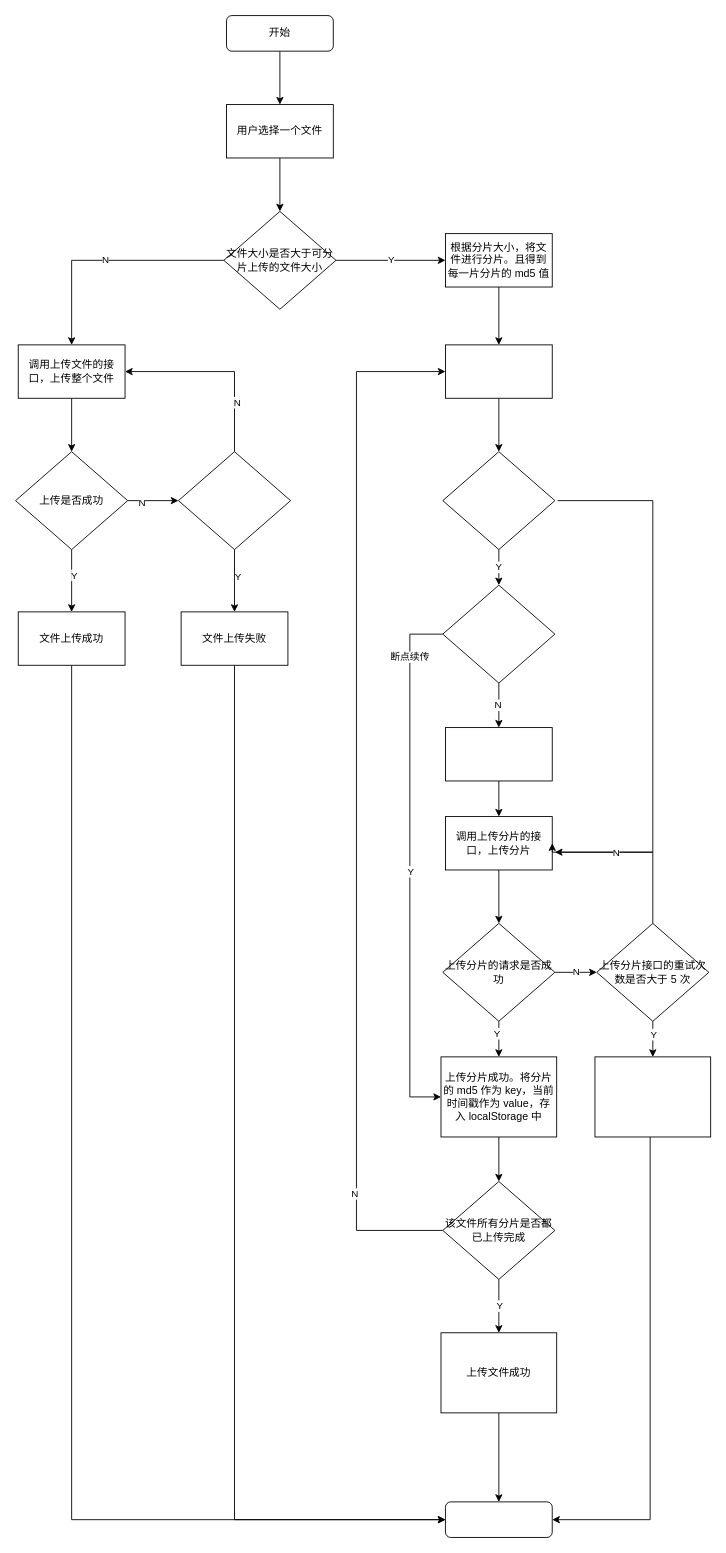
Image size: 726x1553. Some labels were removed from this diagram. The shapes that lost their labels are listed below. From the top down, each one's centre as x and y in pixels, then its label:
the point at 498,371: 按照顺序取未完成上传的一个分片
the point at 234,500: 上传文件的接口重试次数是否大于 5
the point at 498,500: localStorage 中是否存在该分片的 md5 值
the point at 498,633: 当前时间小于该分片的过期时间
the point at 498,754: 删除 localStorage 中该分片的 md5 值
the point at 652,1096: 上传分片失败，即上传文件失败
the point at 498,1519: 结束
